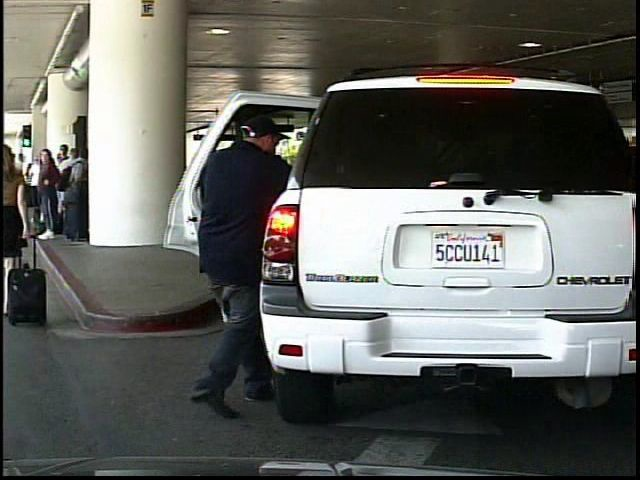person: (183, 104, 294, 422)
